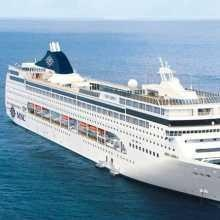youlun: (4, 38, 220, 199)
